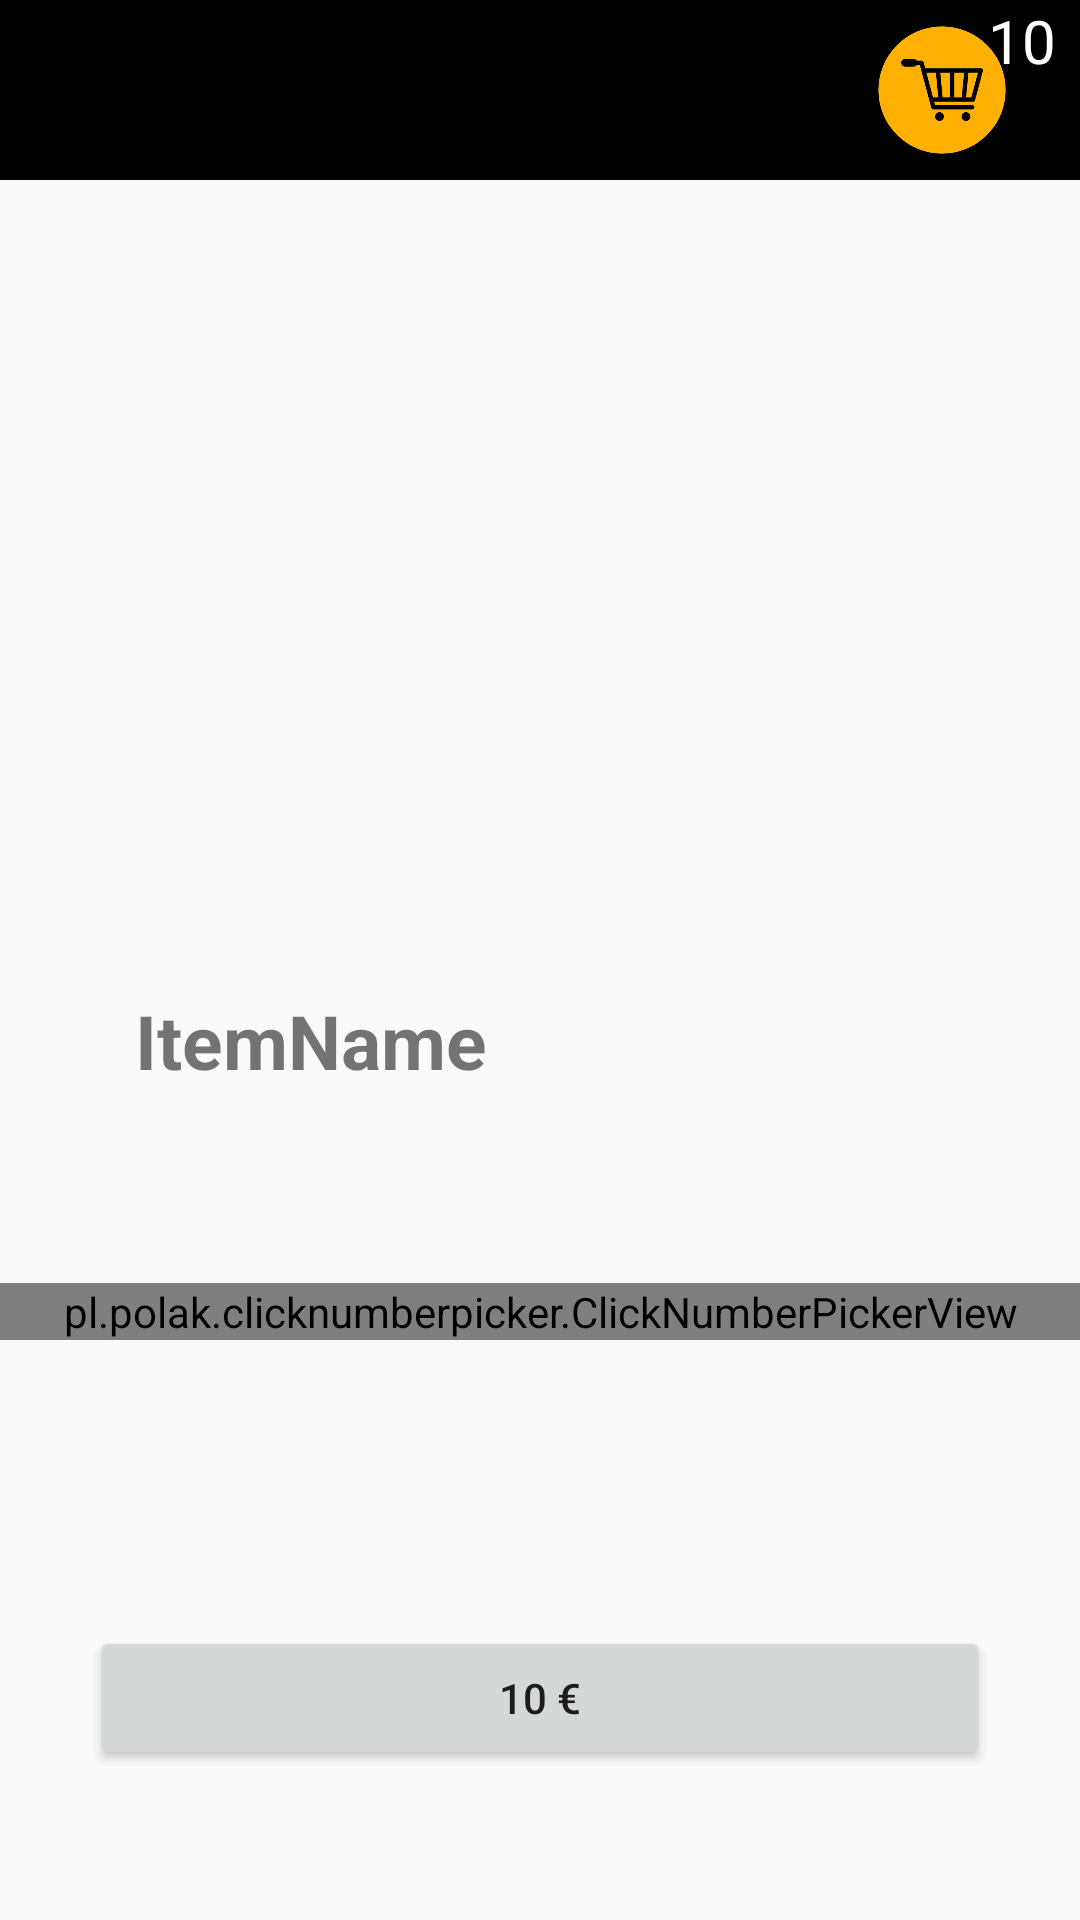

Screen size 1080 x 1920. Icon name, then its box in pixels as (x1, y1, x2, y2):
caddie: (878, 21, 1010, 154)
